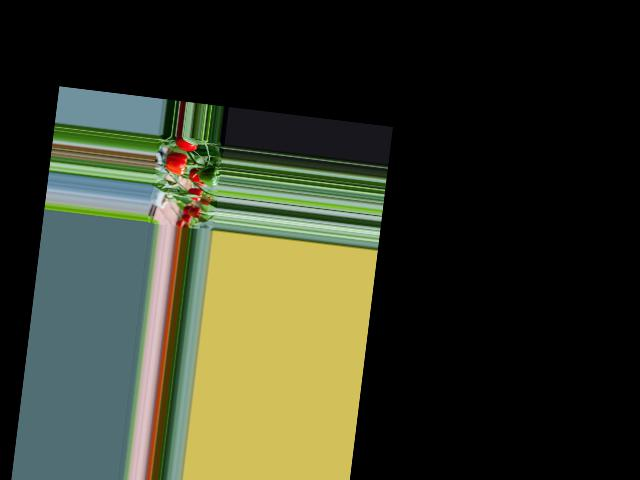bell_pepper: (183, 186, 206, 203)
